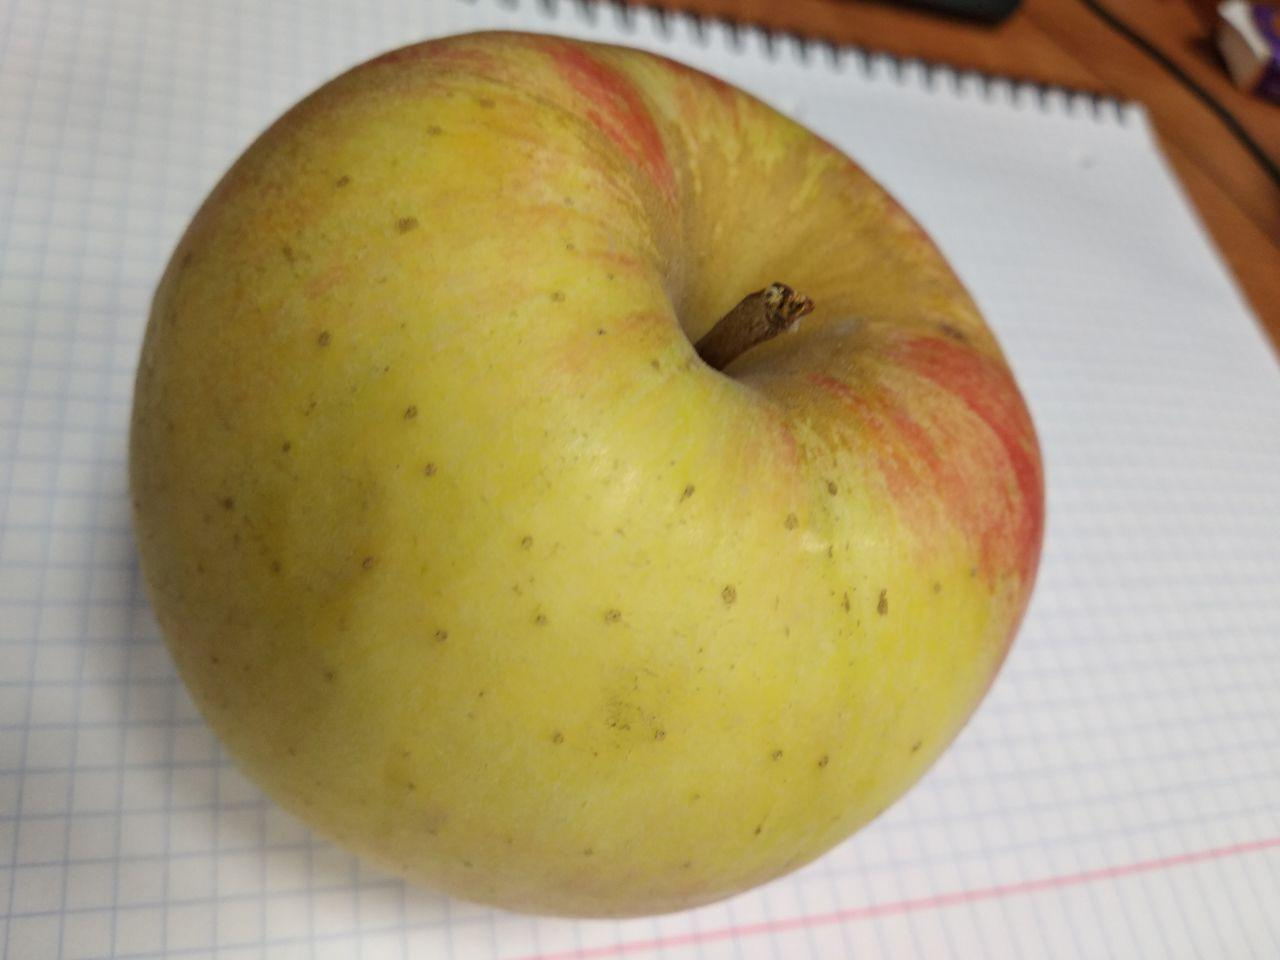Apple: (111, 29, 1045, 923)
